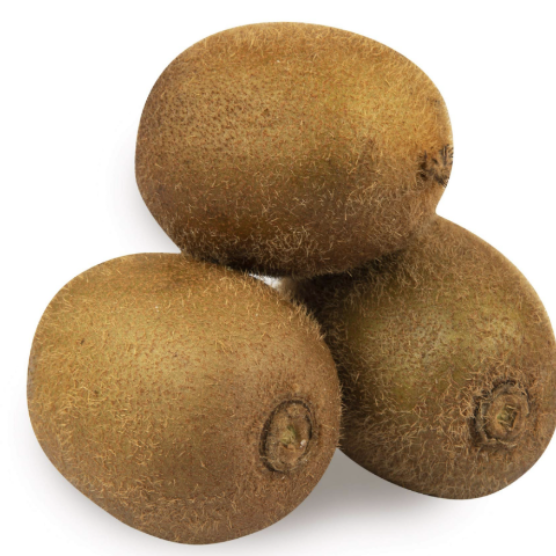kiwi: (8, 231, 373, 554), (103, 7, 459, 284), (265, 216, 549, 532)
